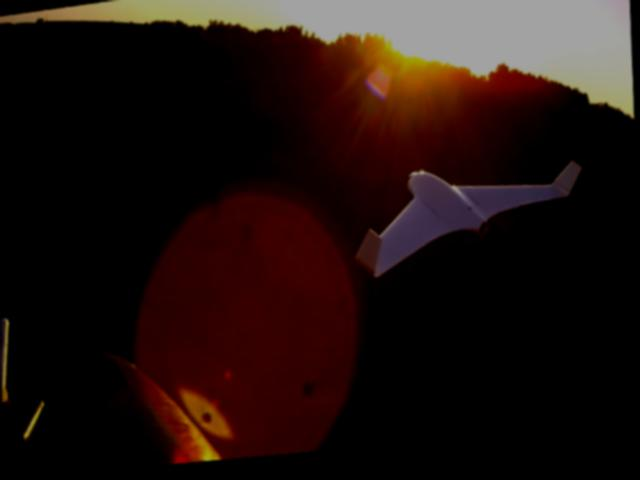plane: (351, 156, 586, 290)
